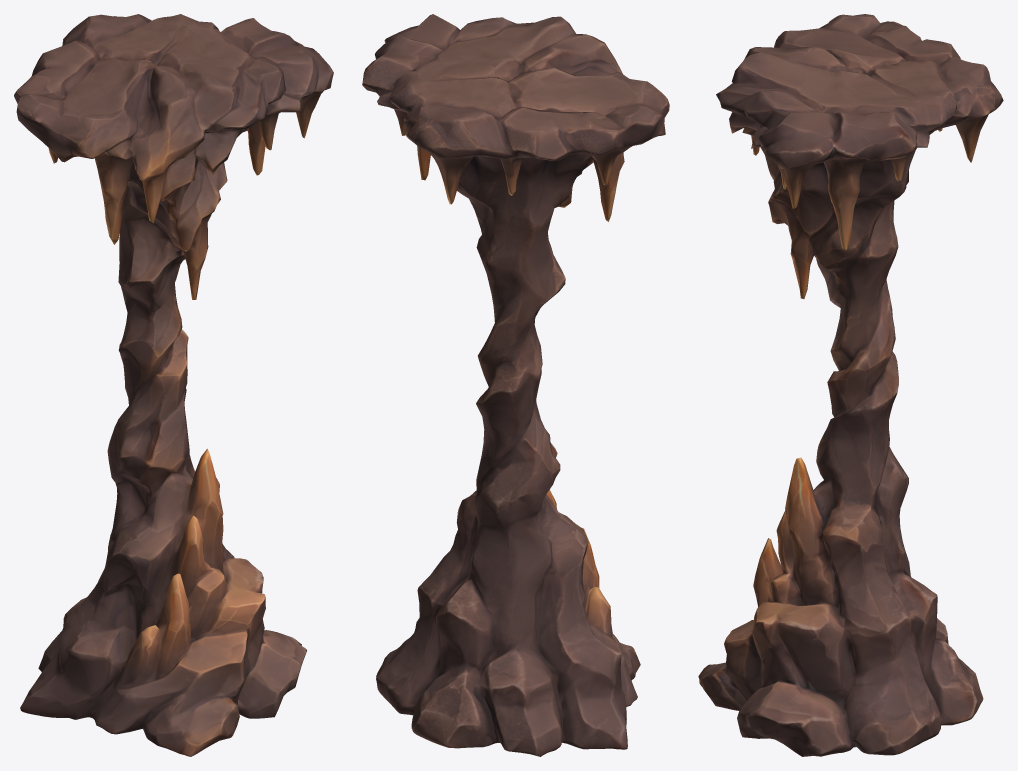
File: rock pillar 3d model 4.glb
3 renders of one model, left to right at view 1: azimuth 30°, elevation 25°; view 2: azimuth 150°, elevation 25°; view 3: azimuth 270°, elevation 25°, orthographic.
Parts seen in each view (by area): view 1: tripo_node_afd6a3e4-8328-4bd0-b39b-52097a77c19c; view 2: tripo_node_afd6a3e4-8328-4bd0-b39b-52097a77c19c; view 3: tripo_node_afd6a3e4-8328-4bd0-b39b-52097a77c19c.
Boxes of the visible parts, x1,y1,x2,y2 form: tripo_node_afd6a3e4-8328-4bd0-b39b-52097a77c19c: [14, 14, 333, 756]; tripo_node_afd6a3e4-8328-4bd0-b39b-52097a77c19c: [362, 14, 669, 756]; tripo_node_afd6a3e4-8328-4bd0-b39b-52097a77c19c: [698, 14, 1003, 756].
Bounding box in the file's own units: 0.4606 × 1 × 0.4218.
1 material, 1 textured.
